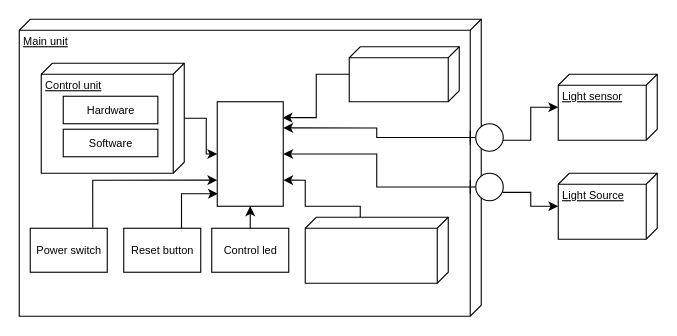
This 677x336 diagram has some shape labels left out. Each missing label, with the centre of its shape:
"Display" belongs at pixel 376 249.
"Electrical Power" belongs at pixel 403 74.
"Mother board" belongs at pixel 249 153.
